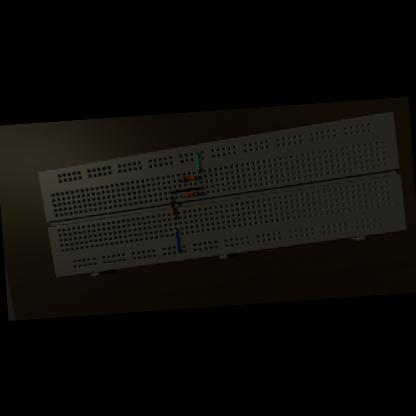breadboard: (34, 110, 408, 278)
resistor: (169, 200, 175, 214), (184, 190, 198, 196), (182, 174, 196, 180)
wire: (169, 186, 202, 192), (174, 226, 180, 251), (196, 151, 199, 172), (172, 214, 174, 217), (170, 196, 172, 199), (199, 192, 203, 193), (178, 178, 180, 180), (196, 176, 200, 177), (182, 194, 184, 195)
